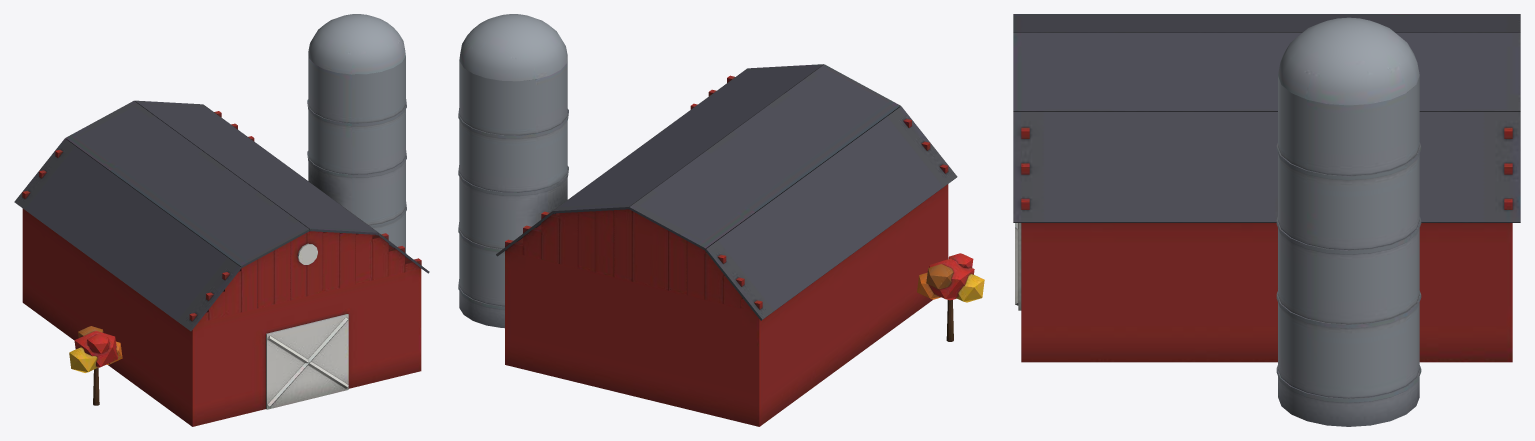
Rendered from granero_rojo.glb.
3 views of the same model, side by side, from view 1: azimuth 30°, elevation 25°; view 2: azimuth 150°, elevation 25°; view 3: azimuth 270°, elevation 25° (orthographic). The views are drawn at different scales.
Visible parts, largest first — view 1: granero_rojo; view 2: granero_rojo; view 3: granero_rojo.
Boxes of the visible parts, left/top/right/bottom form: granero_rojo: left=14, top=14, right=429, bottom=426; granero_rojo: left=458, top=14, right=984, bottom=426; granero_rojo: left=1013, top=14, right=1520, bottom=426.
Bounding box in the file's own units: 24.3 × 15 × 18.6.
1 material, 1 textured.
